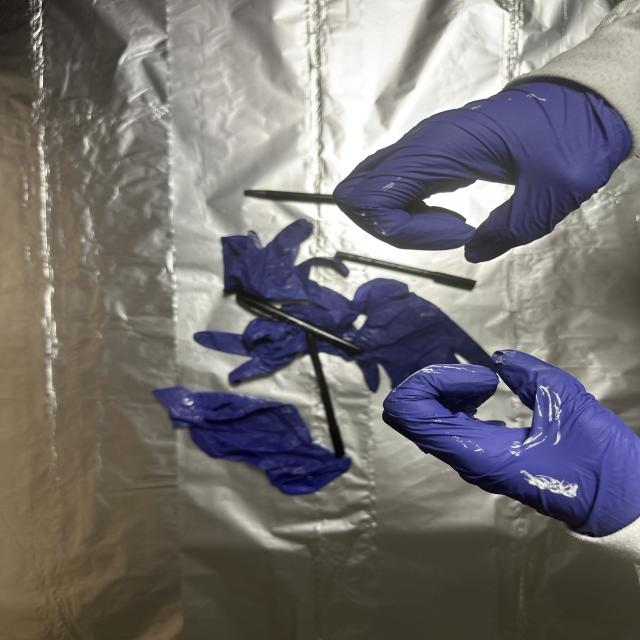gloves_contaminated: (333, 79, 632, 263), (383, 350, 640, 539)
